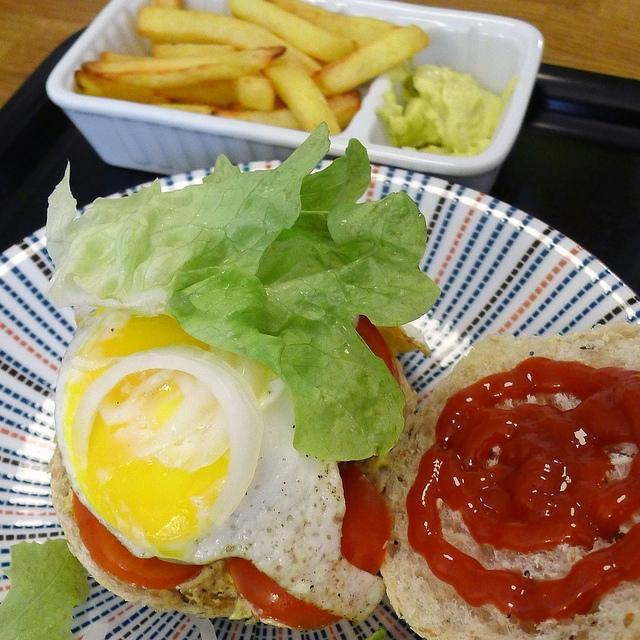lettuce: (45, 120, 443, 460), (1, 536, 89, 639)
onion: (72, 344, 264, 526), (185, 614, 217, 639)
tomato: (224, 462, 392, 632), (73, 496, 203, 588), (354, 314, 402, 390)
